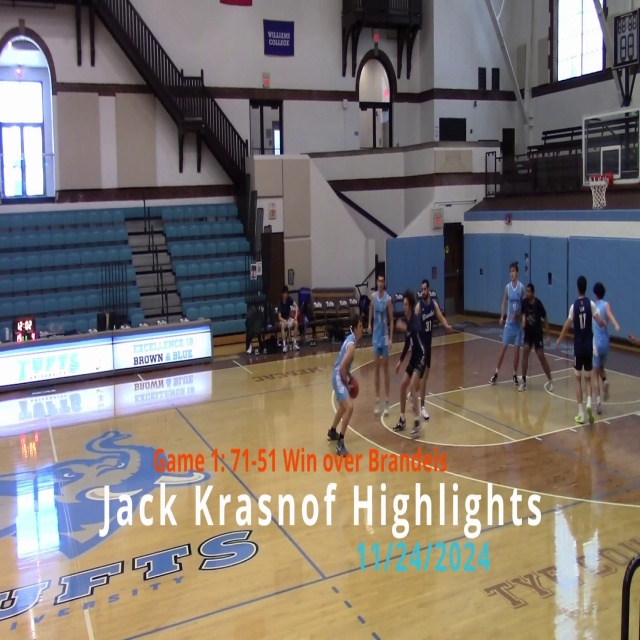Basketball: (345, 376, 359, 399)
